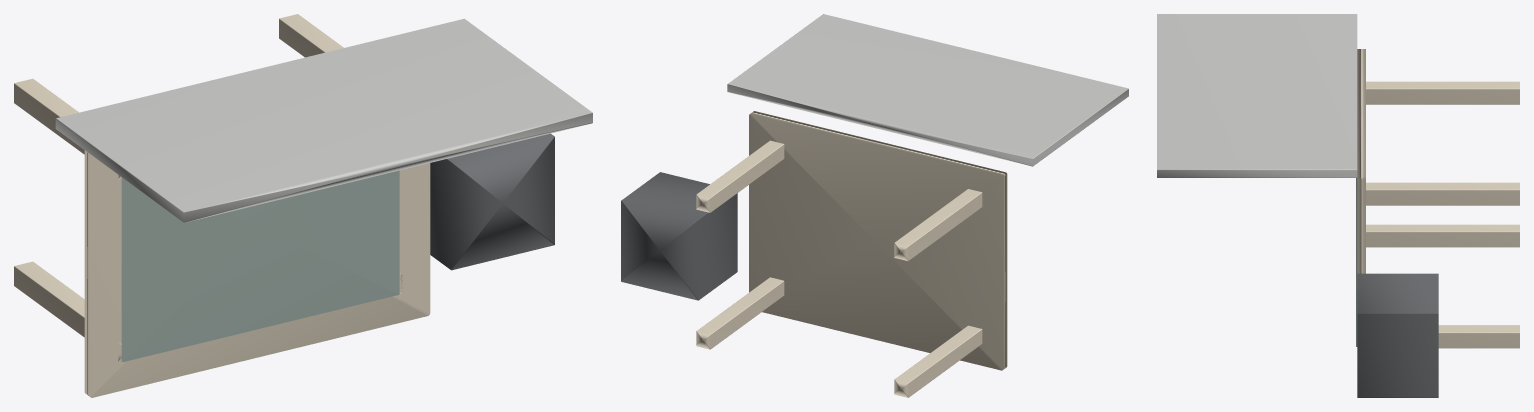
File: play.glb
The picture shows the model from 3 angles, left to right: view 1: azimuth 30°, elevation 25°; view 2: azimuth 150°, elevation 25°; view 3: azimuth 270°, elevation 25°; orthographic projection. The views are drawn at different scales.
Visible parts, largest first — view 1: wall, mat, table, bin, legs; view 2: table, wall, bin, legs; view 3: wall, legs, bin, table, mat.
Part boxes in pixels (bbox=[...]): wall: bbox=[55, 18, 592, 222]; mat: bbox=[121, 170, 399, 361]; table: bbox=[84, 150, 430, 397]; bin: bbox=[430, 133, 554, 270]; legs: bbox=[14, 14, 402, 361]; table: bbox=[749, 111, 1007, 370]; wall: bbox=[727, 14, 1128, 166]; bin: bbox=[621, 172, 737, 300]; legs: bbox=[696, 140, 982, 397]; wall: bbox=[1157, 14, 1357, 177]; legs: bbox=[1366, 81, 1519, 348]; bin: bbox=[1357, 273, 1438, 397]; table: bbox=[1357, 49, 1365, 273]; mat: bbox=[1356, 178, 1357, 346].
Bounding box in the file's own units: 1.44 × 0.795 × 1.16.
